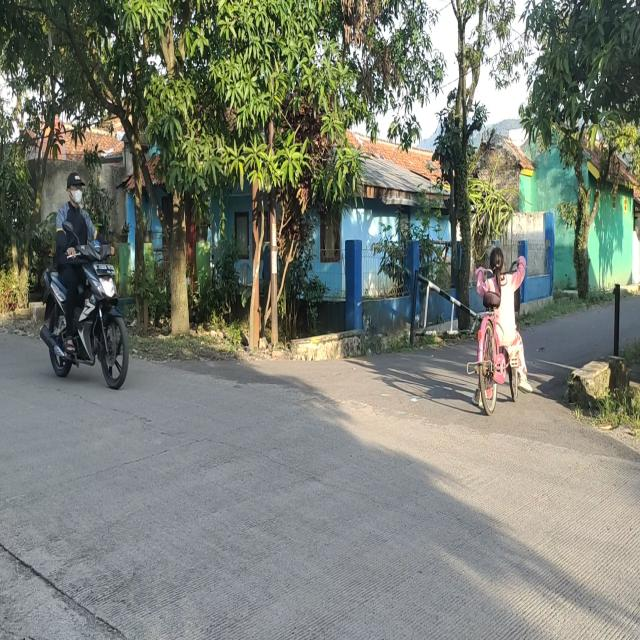no-helmet: (66, 170, 85, 209)
